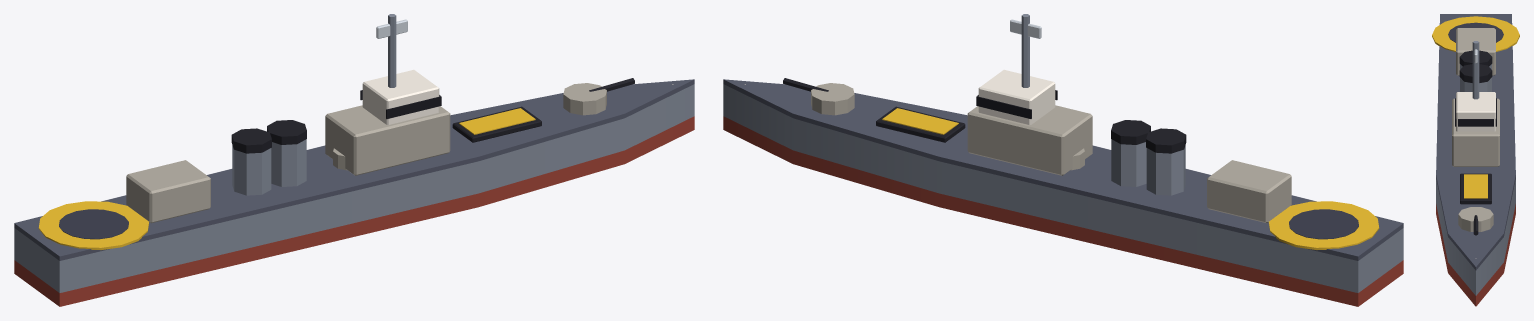
Rendered from destroyer.glb.
The picture shows the model from 3 angles, left to right: view 1: azimuth 30°, elevation 25°; view 2: azimuth 150°, elevation 25°; view 3: azimuth 270°, elevation 25°; orthographic projection. The views are drawn at different scales.
Visible parts, largest first — view 1: destroyer; view 2: destroyer; view 3: destroyer.
Part boxes in pixels (x1,y1,x2,y2): destroyer: (14, 14, 694, 306); destroyer: (723, 14, 1403, 306); destroyer: (1432, 14, 1519, 306).
Size of the model in its own units: 150 by 41 by 22.
Materials: 1 (1 with a texture image).
